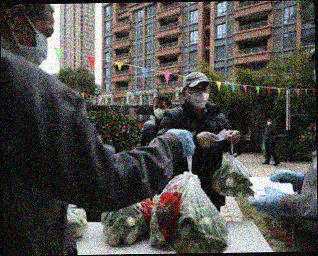with_mask: (17, 23, 55, 66), (188, 84, 211, 111), (152, 104, 169, 121), (265, 119, 273, 127)
